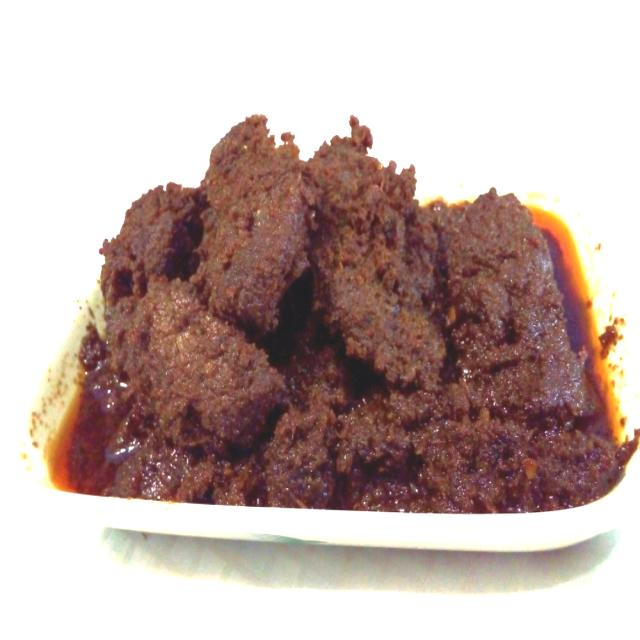rendang: (84, 115, 634, 515)
